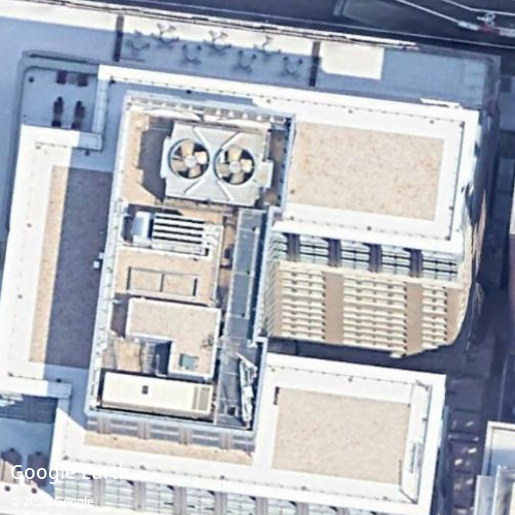Vent: (169, 139, 210, 180), (215, 145, 255, 185)
